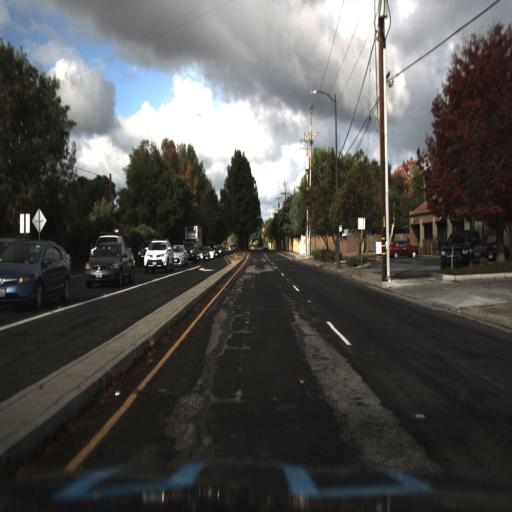car: (0, 240, 73, 316), (80, 243, 137, 290), (437, 226, 483, 273), (139, 230, 174, 277), (141, 236, 175, 276), (386, 236, 419, 261), (85, 229, 128, 247), (131, 235, 148, 270), (173, 236, 187, 271)
truck: (182, 224, 206, 247)
